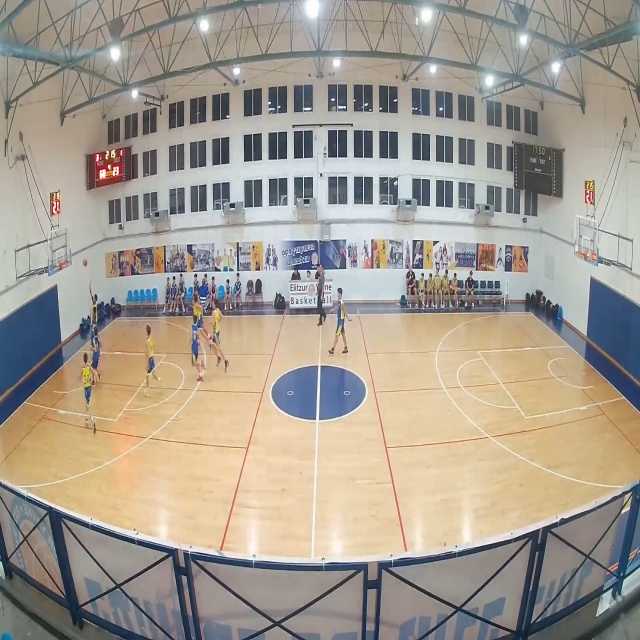Basketball: (82, 259, 87, 266)
